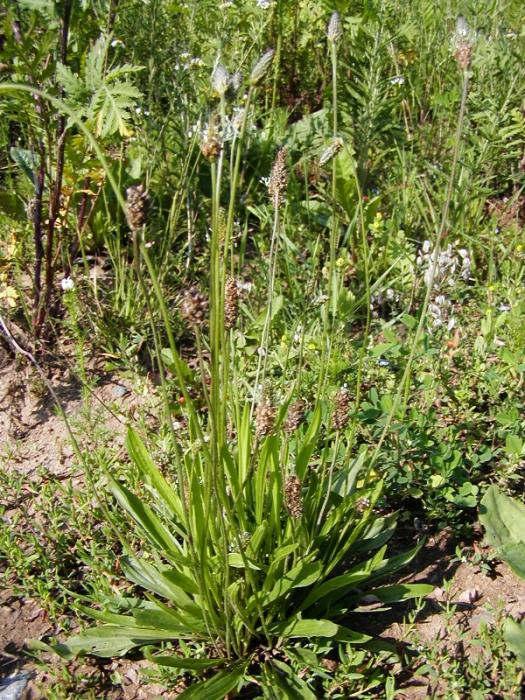buckhorn plantain: (108, 50, 403, 628)
